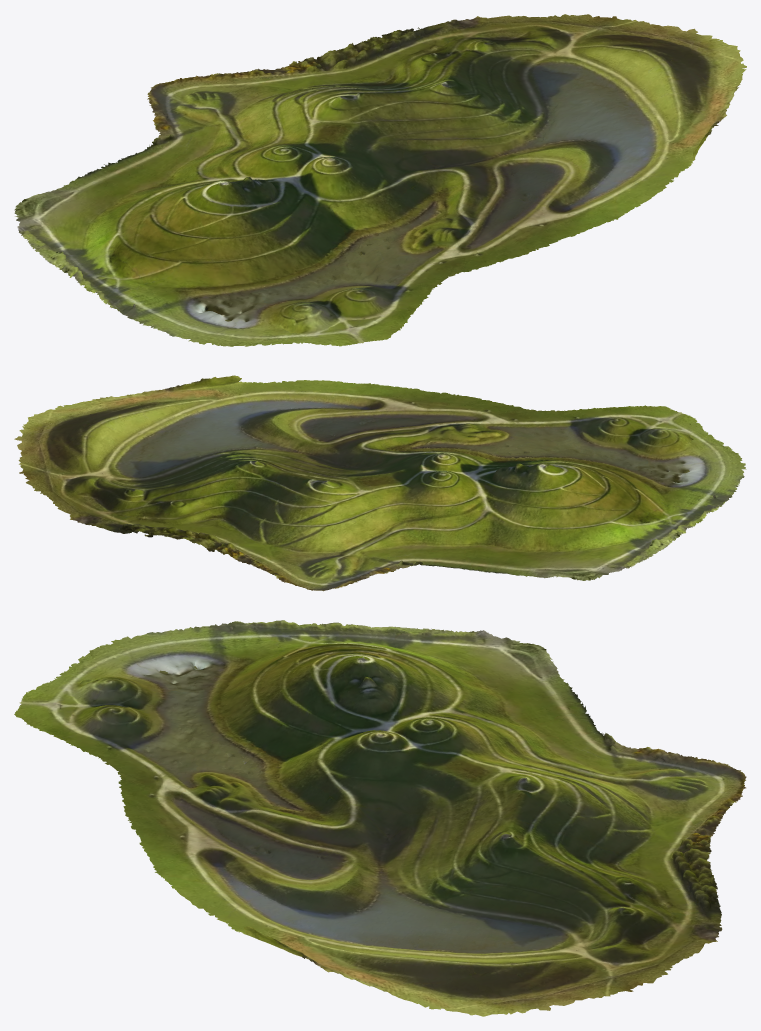
The model's file is preview.glb.
The picture shows the model from 3 angles, top to bottom: view 1: azimuth 30°, elevation 25°; view 2: azimuth 150°, elevation 25°; view 3: azimuth 270°, elevation 25°; orthographic projection. The views are drawn at different scales.
Parts seen in each view (by area): view 1: Model_material0_0; view 2: Model_material0_0; view 3: Model_material0_0.
Part boxes in pixels (left/top/right/bottom): Model_material0_0: left=14, top=14, right=746, bottom=346; Model_material0_0: left=14, top=375, right=746, bottom=591; Model_material0_0: left=14, top=620, right=746, bottom=1016.
Size of the model in its own units: 47.04 by 3.39 by 36.36.
Materials: 1 (1 with a texture image).
